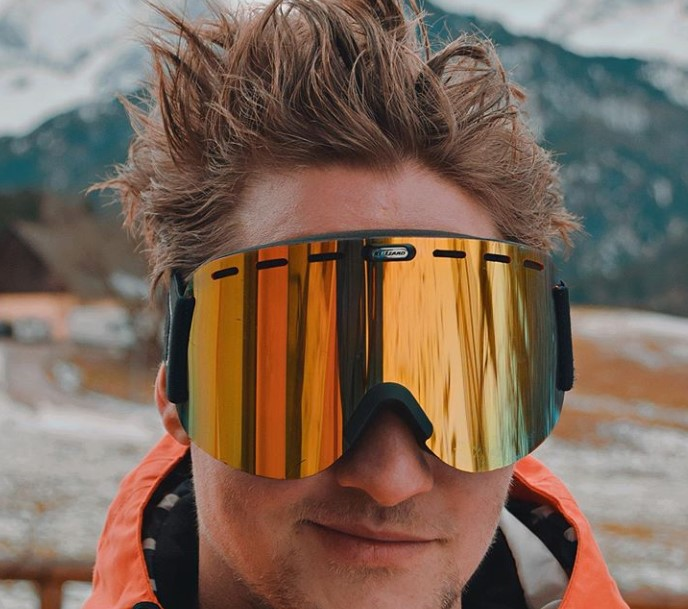face_no_mask: (182, 132, 540, 609)
